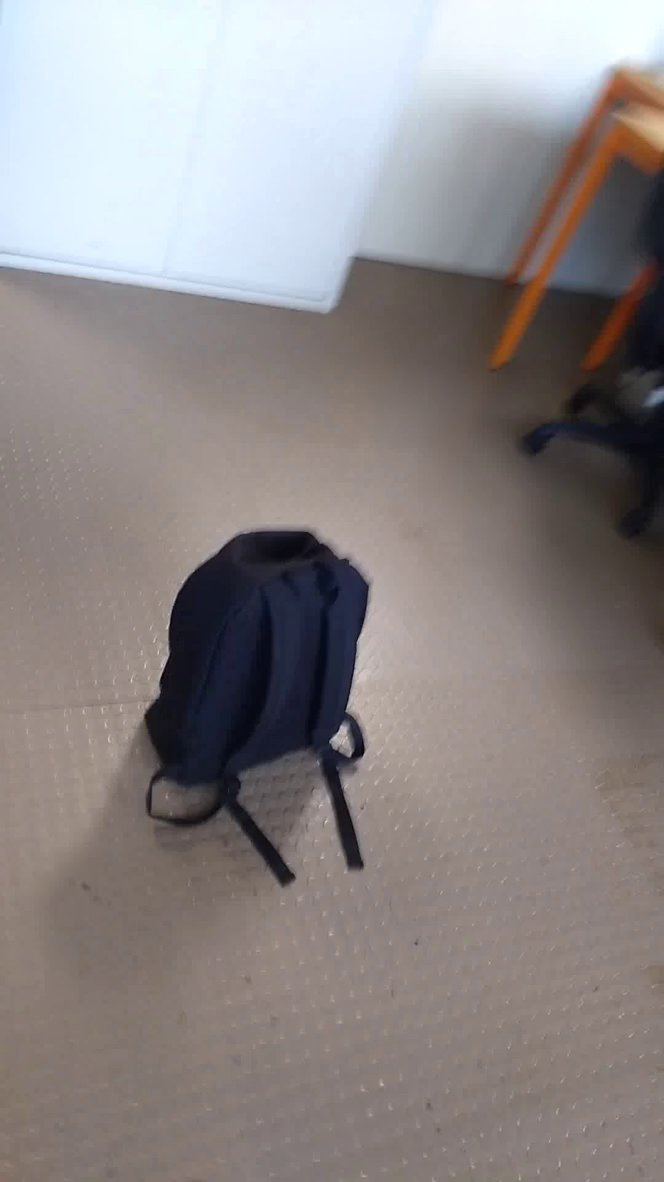bag: (121, 516, 407, 905)
